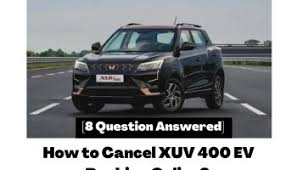XUV 400: (70, 21, 225, 114)
